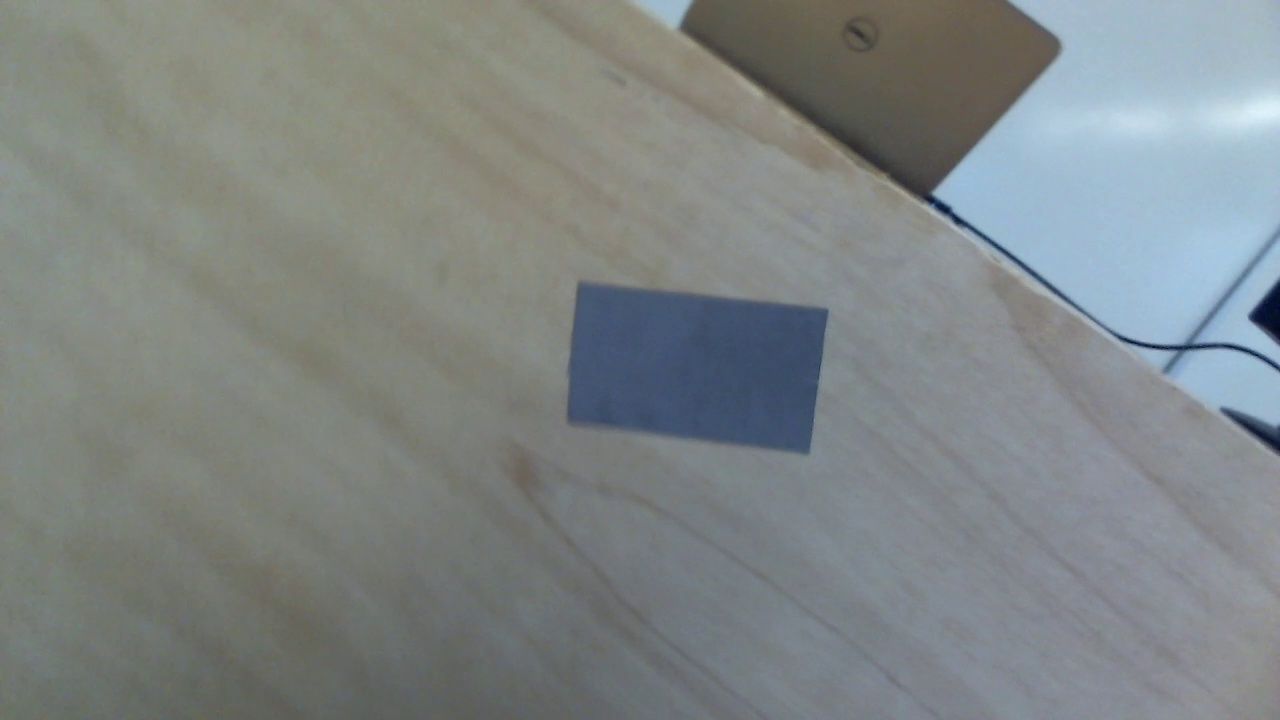Tape: (568, 281, 830, 456)
